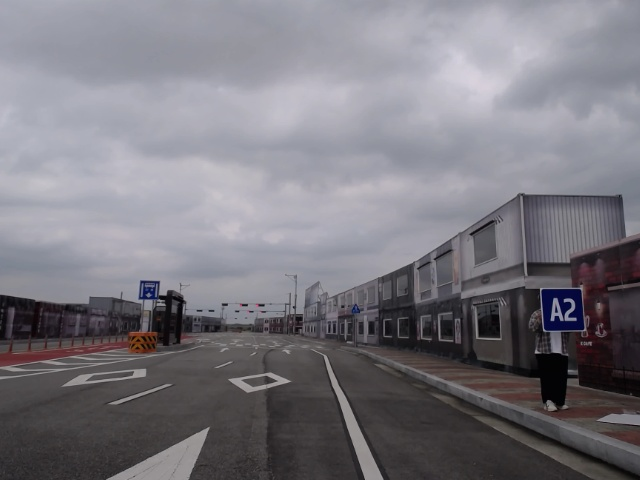delivery_a2: (540, 287, 585, 332)
